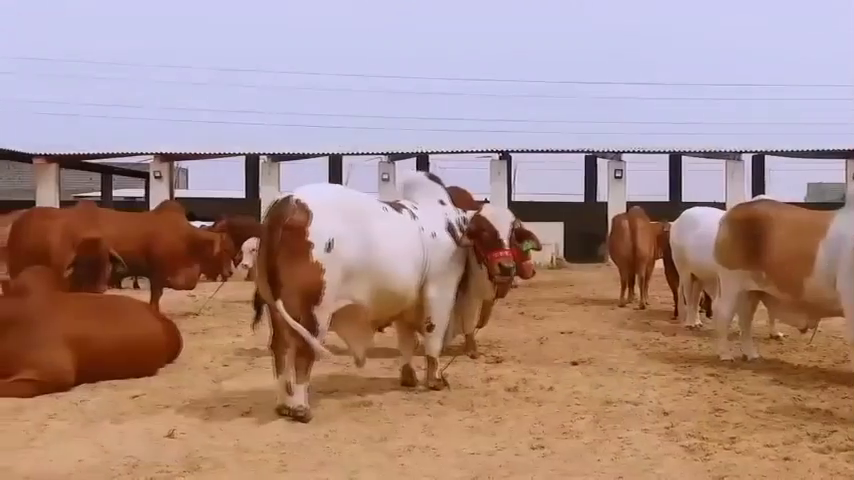bo: (256, 172, 520, 423), (4, 268, 194, 409), (711, 186, 852, 372), (94, 183, 236, 306), (5, 201, 141, 294), (660, 194, 729, 330), (596, 192, 668, 318), (502, 216, 545, 284), (213, 214, 259, 270)
